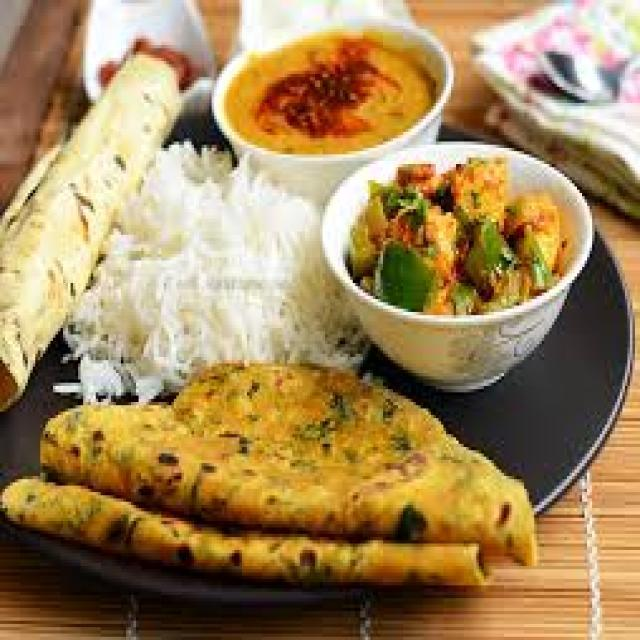pickle: (235, 26, 426, 161)
rice: (85, 135, 310, 389)
veg-fry: (338, 139, 568, 325)
